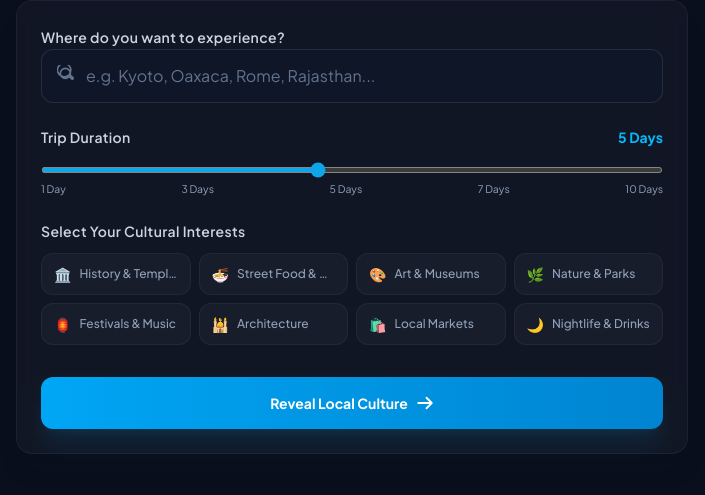
Test case: CultureLens AI Unit & Component Tests › SearchForm Component & User Flow › shows validation message on empty submission
Click the button "Reveal Local Culture".
click(352, 403)  # box [41,377,663,429]
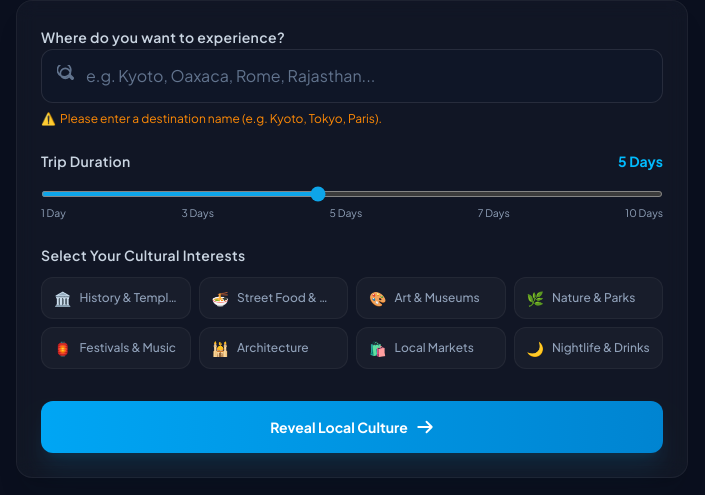
expect the message "⚠️ Please enter a destination name (e.g. Kyoto, Tokyo, Paris)." is shown: met, box [41,111,382,126]
expect the text "Please enter a destination name (e.g. Kyoto, Tokyo, Paris)." is shown: met, box [60,111,382,127]
